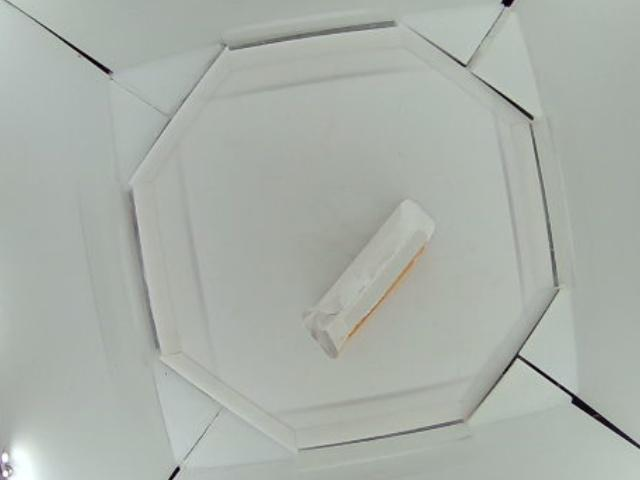China: (306, 200, 440, 359)
